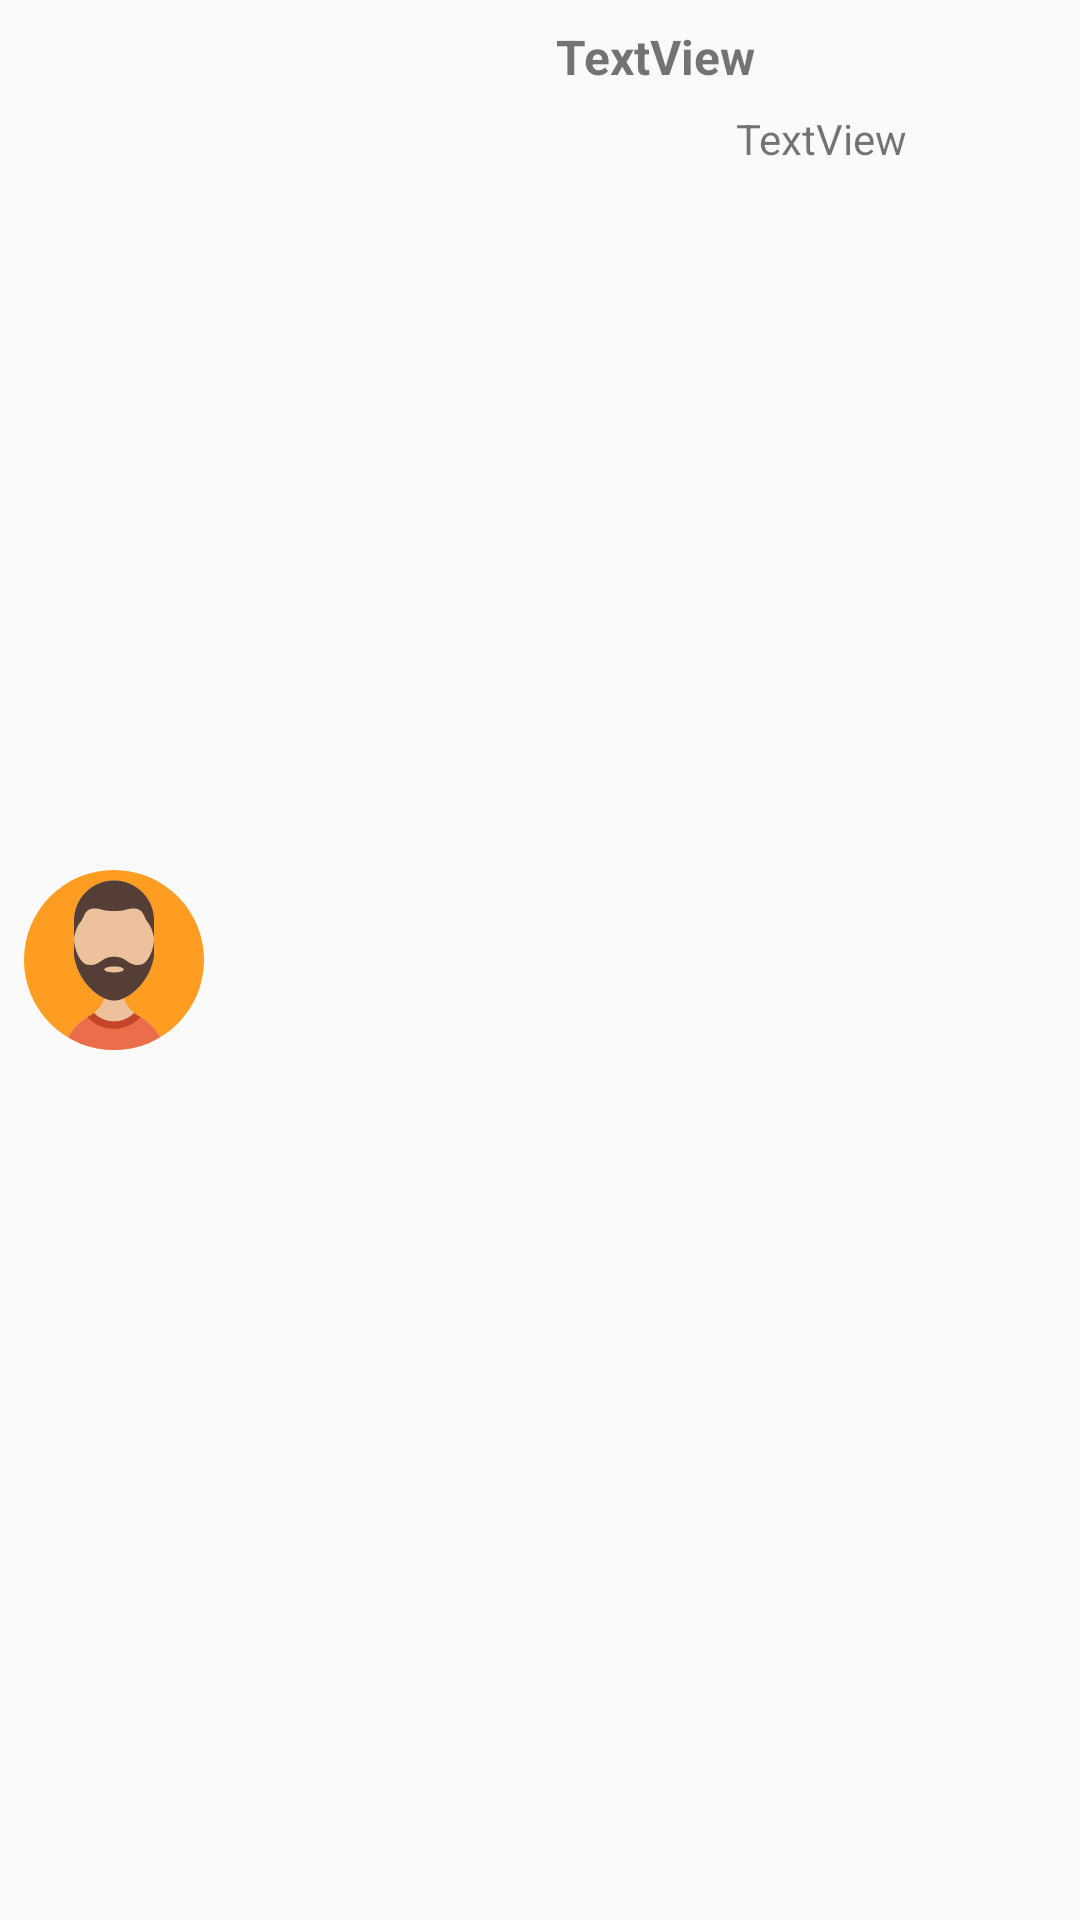

Screen size 1080w x 1920h. Icon name, then its box in pixels as (x1, y1, x2, y2):
man: (24, 870, 204, 1050)
